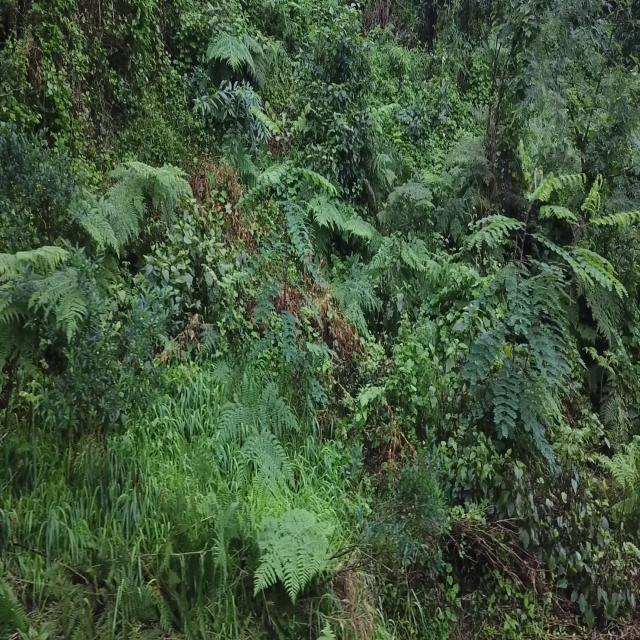Mysore-Thorn-Weed: (465, 156, 626, 464), (236, 115, 344, 338)
